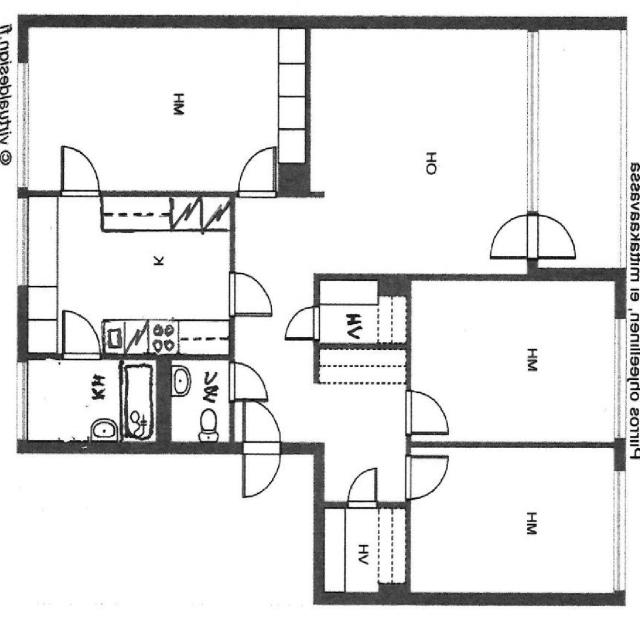door: (243, 398, 280, 454), (243, 442, 280, 497), (527, 215, 574, 257), (491, 215, 538, 257), (238, 147, 275, 197), (62, 148, 99, 197), (405, 391, 447, 434), (230, 272, 272, 315), (64, 312, 100, 359), (406, 456, 446, 498), (230, 362, 266, 398), (348, 467, 377, 507), (286, 307, 319, 339)
